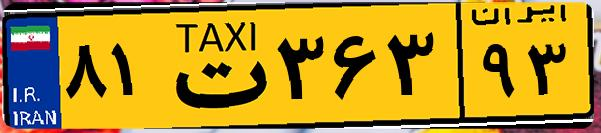1: (110, 28, 158, 98)
3: (270, 28, 330, 110), (385, 28, 445, 110), (525, 38, 570, 115)
6: (330, 28, 385, 110)
8: (57, 26, 110, 100)
9: (475, 38, 525, 113)
ت: (158, 12, 270, 120)
